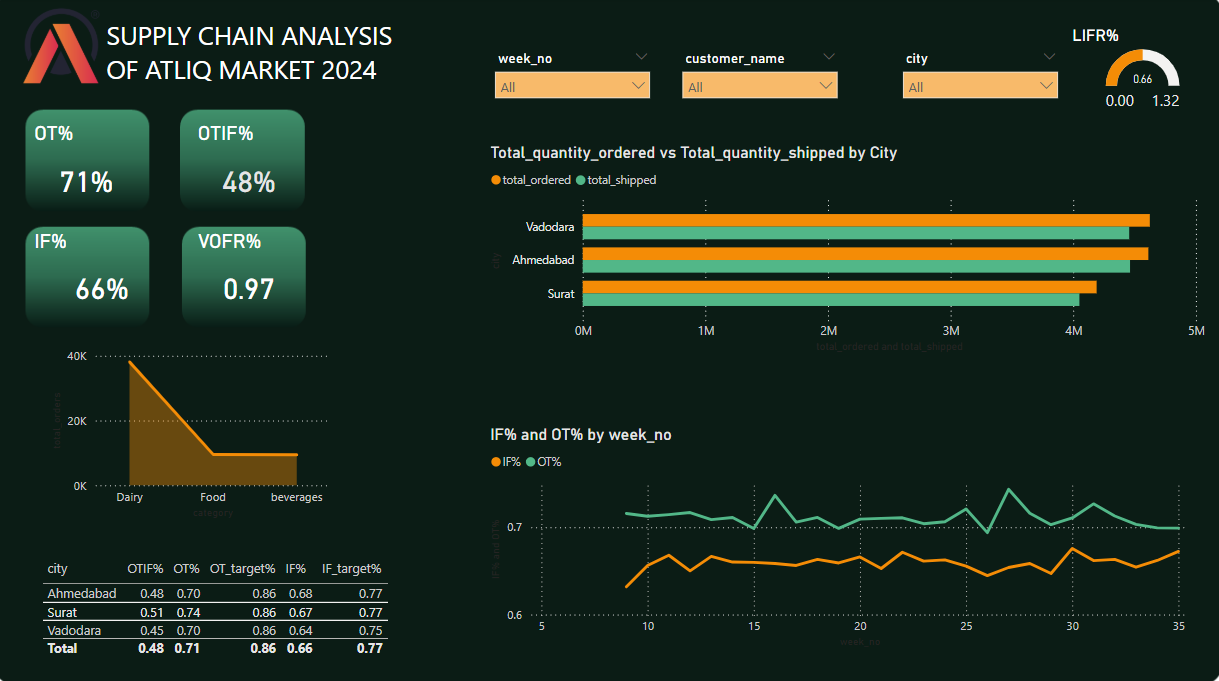

This screenshot's page, from the dashboard's own definition file:
{"tool":"powerbi","page":{"name":"Page 1","canvas":[1280,720],"ordinal":0},"visuals":[{"type":"card","title":"OT%","fields":{"Values":["fact_order_lines.OT%"]},"box":[35.3,129.3,117.6,97.4],"z":0},{"type":"card","title":"IF%","fields":{"Values":["fact_order_lines.IF%"]},"box":[35.3,241.9,149.5,95.7],"z":1000},{"type":"card","title":"OTIF%","fields":{"Values":["fact_order_lines.OTIF%"]},"box":[206.6,129.3,115.9,97.4],"z":2000},{"type":"tableEx","fields":{"Values":["dim_customers.city","fact_order_lines.OTIF%","fact_order_lines.OT%","fact_order_lines.OT_target%","fact_order_lines.IF%","fact_order_lines.IF_target%"]},"box":[43.7,579.5,404.8,126],"z":3000},{"type":"clusteredBarChart","title":"Total_quantity_ordered vs Total_quantity_shipped by City","fields":{"Category":["dim_customers.city"],"Y":["fact_order_lines.total_quantity_ordered","fact_order_lines.total_quantity_shipped"]},"box":[510.7,151.2,754.2,223.4],"z":5000},{"type":"slicer","fields":{"Values":["dim_customers.customer_name"]},"box":[707.2,50.4,181.4,79],"z":6000},{"type":"slicer","fields":{"Values":["dim_customers.city"]},"box":[935.6,50.4,181.4,79],"z":7000},{"type":"lineChart","fields":{"Category":["fact_order_lines.week_no"],"Y":["fact_order_lines.IF%","fact_order_lines.OT%"]},"box":[510.7,445.1,737.4,236.9],"z":8000},{"type":"gauge","fields":{"Y":["fact_order_lines.LIFR%"]},"box":[1117.1,30.2,156.2,99.1],"z":9000},{"type":"areaChart","fields":{"Category":["dim_products.category"],"Y":["fact_order_lines.total_orders"]},"box":[53.8,359.5,304,188.1],"z":10000},{"type":"card","title":"VOFR%","fields":{"Values":["fact_order_lines.VOFR%"]},"box":[206.6,241.9,115.9,95.7],"z":11000},{"type":"textbox","box":[110.9,15.1,322.5,87.3],"z":12000},{"type":"image","box":[16.8,5,105.8,90.7],"z":13000},{"type":"slicer","fields":{"Values":["fact_order_lines.week_no"]},"box":[510.7,50.4,181.4,79],"z":13001}]}

Visuals, with their boxes in screenshot pixels (x1, y1, x2, y2), scaled from the page's 1280x720 canvas onto the 1219x681 screenshot:
"OT%" card: <bbox>34, 122, 146, 214</bbox>
"IF%" card: <bbox>34, 229, 176, 319</bbox>
"OTIF%" card: <bbox>197, 122, 307, 214</bbox>
tableEx - dim_customers.city x fact_order_lines.OTIF%: <bbox>42, 548, 427, 667</bbox>
"Total_quantity_ordered vs Total_quantity_shipped by City" clusteredBarChart: <bbox>486, 143, 1205, 354</bbox>
slicer - dim_customers.customer_name: <bbox>673, 48, 846, 122</bbox>
slicer - dim_customers.city: <bbox>891, 48, 1064, 122</bbox>
lineChart - fact_order_lines.week_no x fact_order_lines.IF%: <bbox>486, 421, 1189, 645</bbox>
gauge - fact_order_lines.LIFR%: <bbox>1064, 29, 1213, 122</bbox>
areaChart - dim_products.category x fact_order_lines.total_orders: <bbox>51, 340, 341, 518</bbox>
"VOFR%" card: <bbox>197, 229, 307, 319</bbox>
textbox: <bbox>106, 14, 413, 97</bbox>
image: <bbox>16, 5, 117, 91</bbox>
slicer - fact_order_lines.week_no: <bbox>486, 48, 659, 122</bbox>
